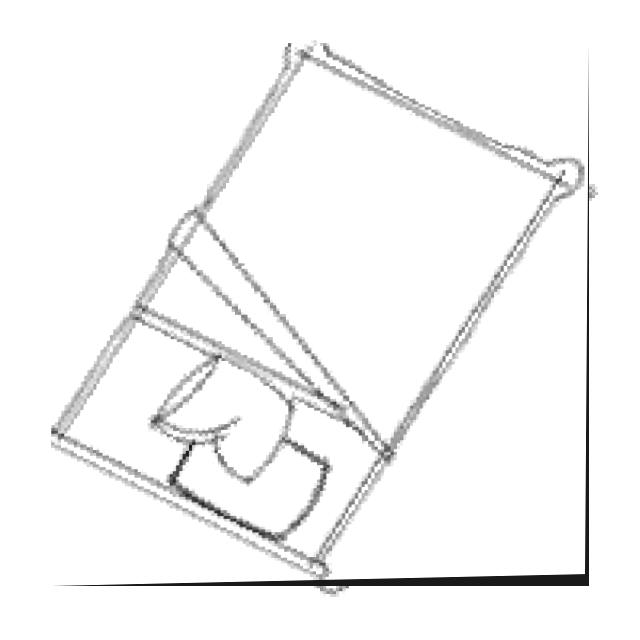bed: (51, 43, 589, 586)
